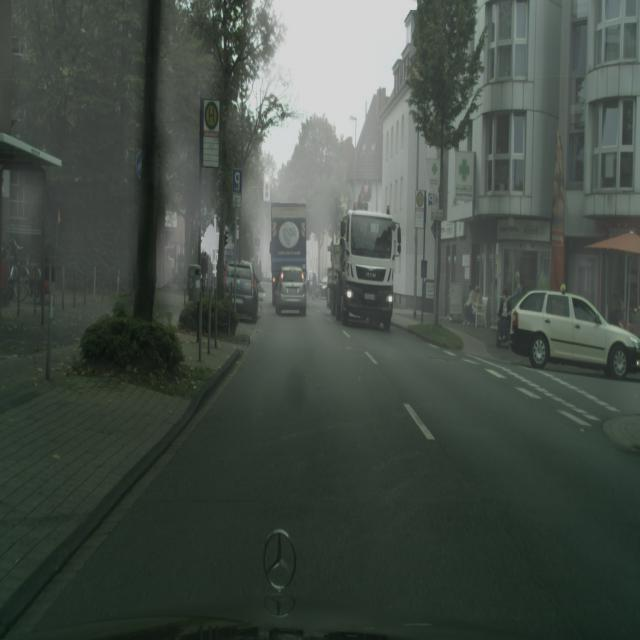bicycle: (327, 206, 402, 331), (269, 202, 306, 309)
bus: (510, 288, 640, 379), (224, 259, 259, 323), (275, 266, 307, 316)
person: (509, 270, 523, 335), (497, 282, 512, 342), (463, 285, 477, 326), (510, 271, 523, 308)
